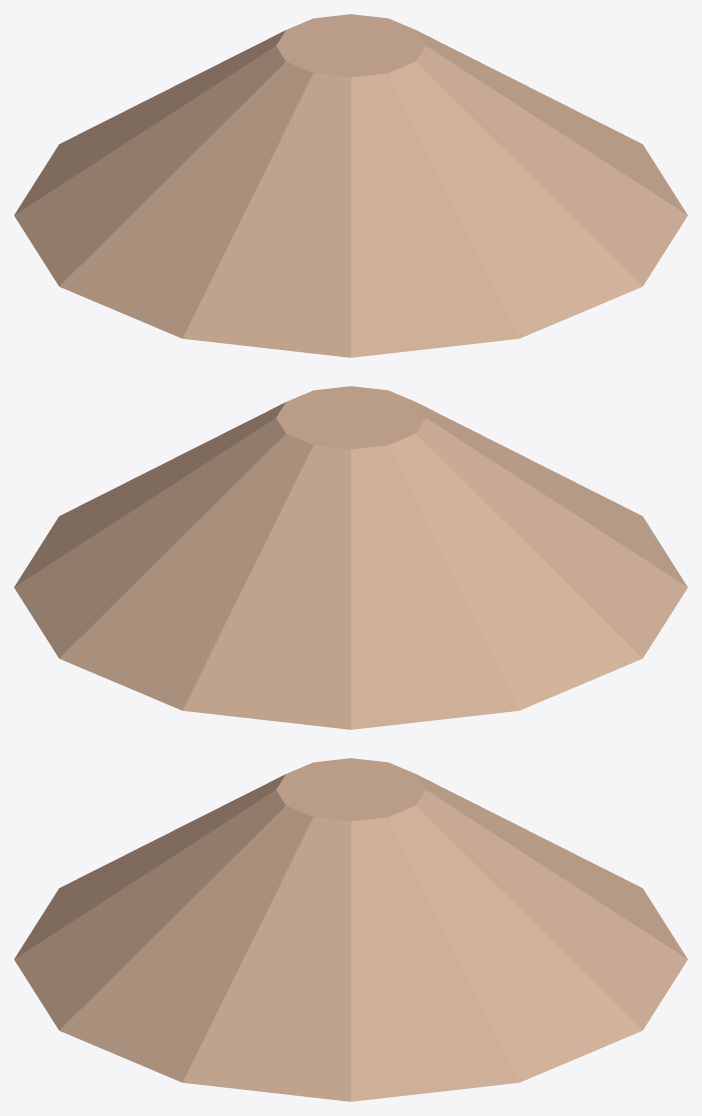
The model's file is clayheap.glb.
3 views of the same model, one above another, from view 1: azimuth 30°, elevation 25°; view 2: azimuth 150°, elevation 25°; view 3: azimuth 270°, elevation 25° (orthographic).
Parts seen in each view (by area): view 1: clayheap; view 2: clayheap; view 3: clayheap.
Part boxes in pixels (<box>): clayheap: <box>14,14,687,357</box>; clayheap: <box>14,386,687,729</box>; clayheap: <box>14,758,687,1101</box>.
Size of the model in its own units: 3.6 by 1 by 3.6.
